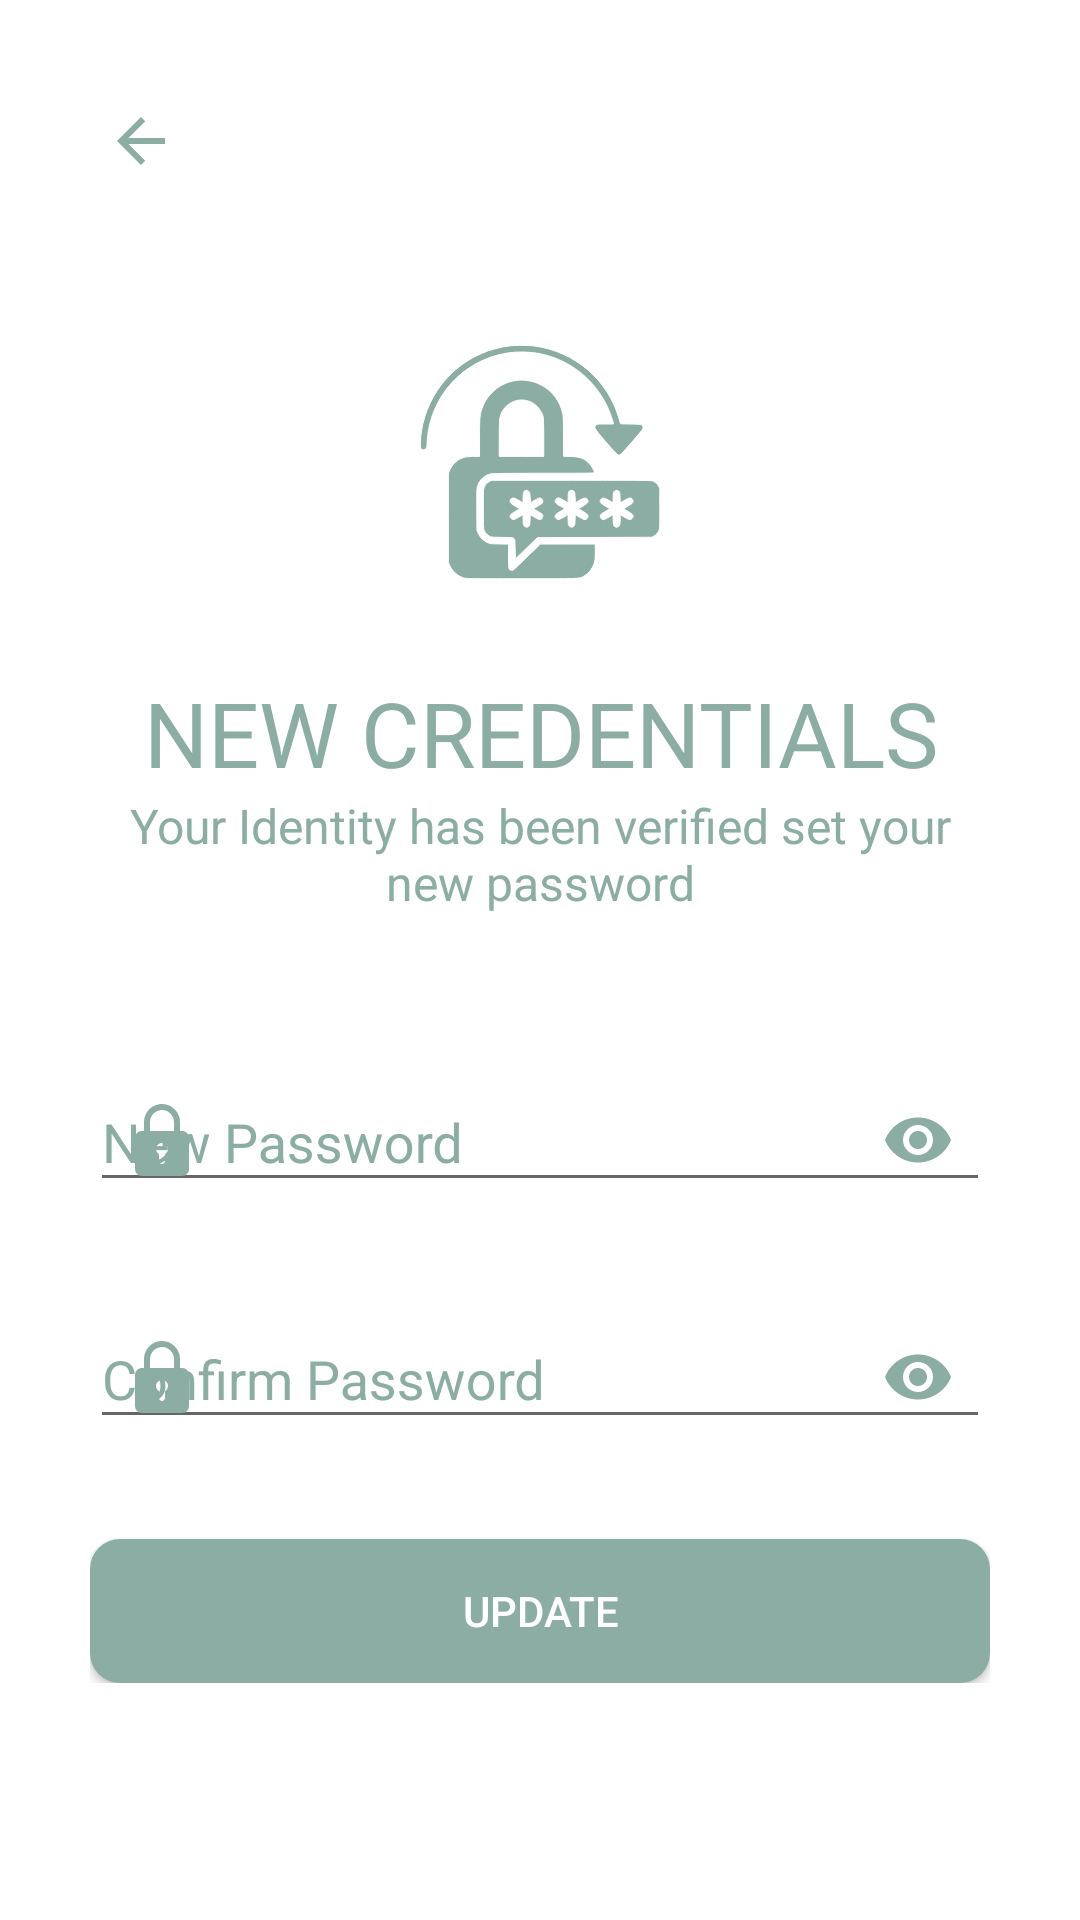

Icons on this 1080w x 1920h Android screen, each with the point to tap as [x,y]:
arrow back: [141,141]
reset password: [540,462]
